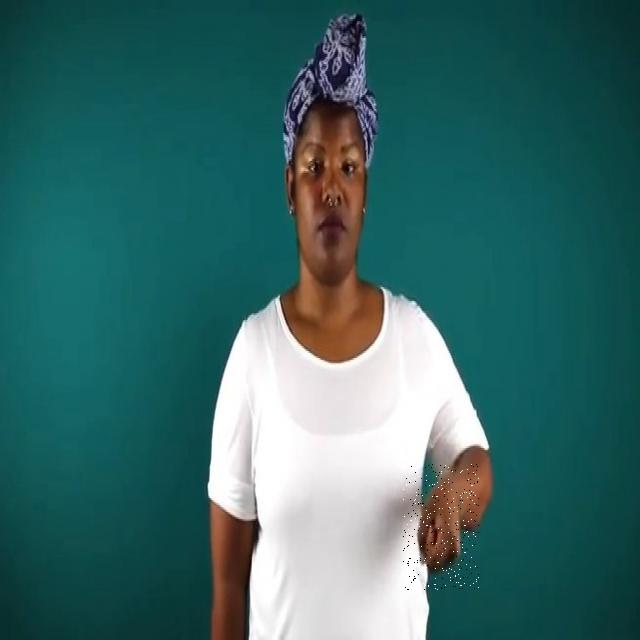bag: (403, 464, 479, 590)
